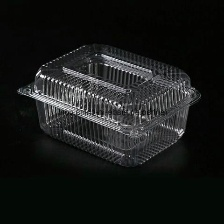plastic_box: (11, 33, 206, 172)
